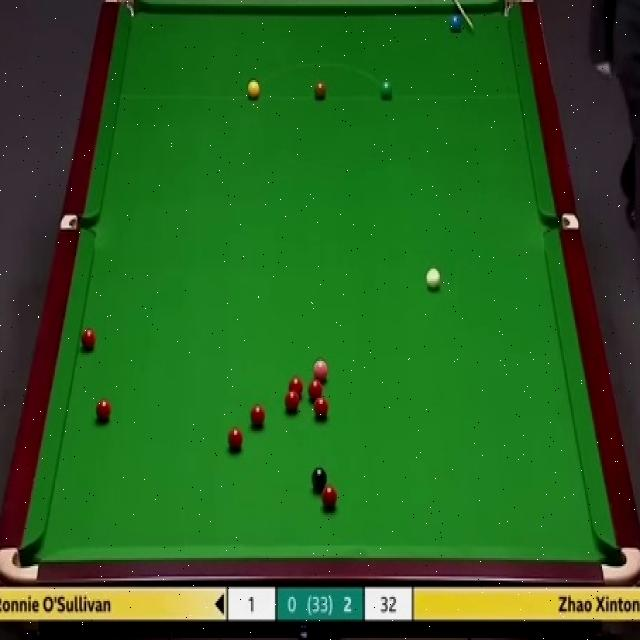black-ball: (311, 466, 326, 490)
blue-ball: (449, 15, 460, 33)
brown-ball: (314, 80, 328, 100)
green-ball: (379, 80, 394, 102)
pink-ball: (314, 359, 328, 386)
red-ball: (227, 426, 244, 453), (314, 395, 329, 423), (307, 376, 323, 402), (80, 328, 97, 352), (249, 403, 265, 428), (321, 484, 337, 508), (289, 376, 303, 402), (97, 398, 110, 422), (285, 391, 299, 412)
white-ball: (425, 267, 441, 291)
yellow-ball: (246, 80, 261, 100)
